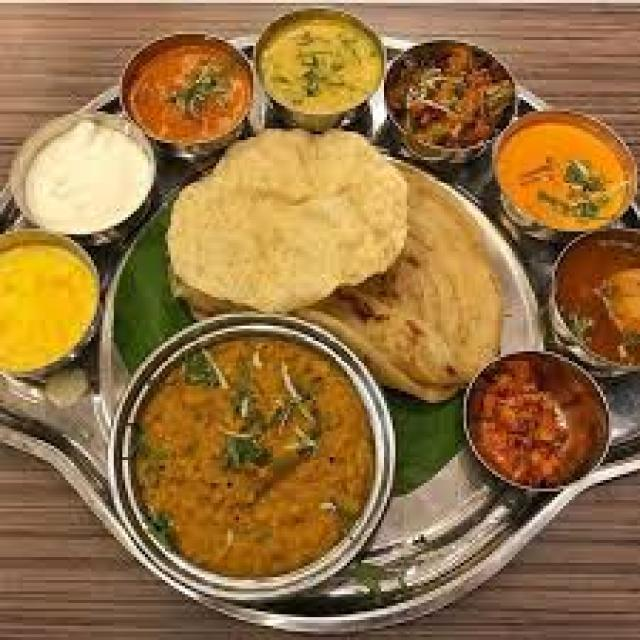dal: (4, 244, 98, 372)
papad: (168, 134, 416, 302)
sweet: (545, 234, 634, 373)
veg-fry: (130, 332, 392, 576), (460, 349, 613, 489), (125, 35, 256, 149)
